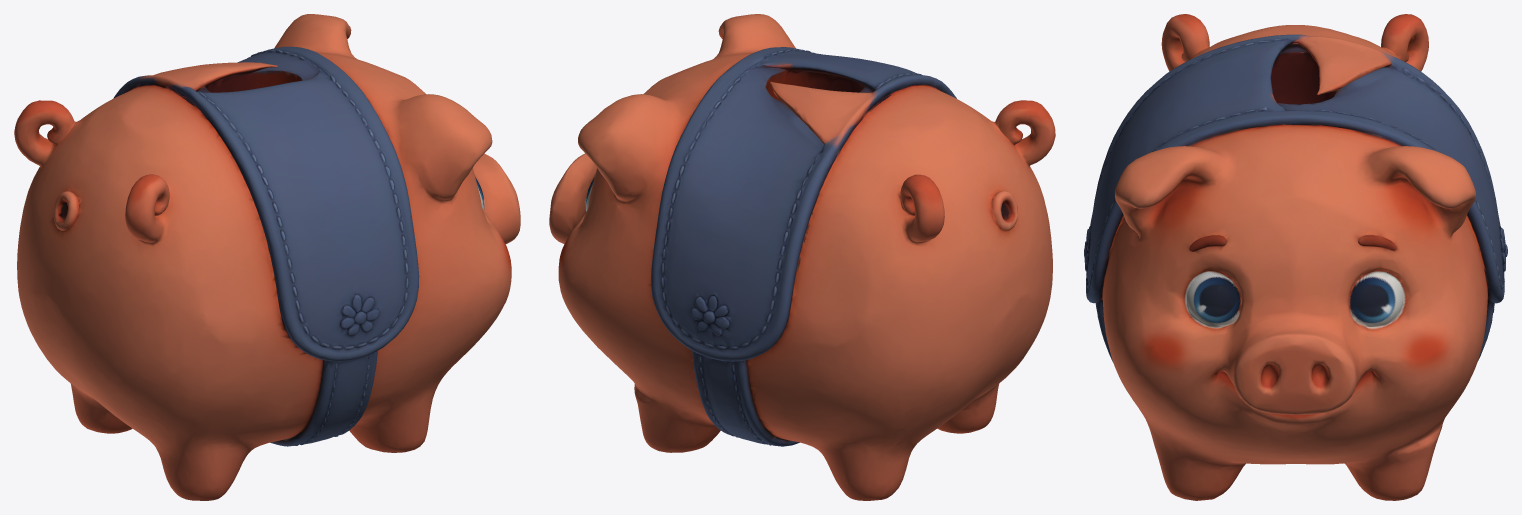
Rendered from porquinho.glb.
The picture shows the model from 3 angles, left to right: view 1: azimuth 30°, elevation 25°; view 2: azimuth 150°, elevation 25°; view 3: azimuth 270°, elevation 25°; orthographic projection. The views are drawn at different scales.
Visible parts, largest first — view 1: tripo_node_2b4fa1c1-7c5c-4dc1-a69d-6e193fb3a70b; view 2: tripo_node_2b4fa1c1-7c5c-4dc1-a69d-6e193fb3a70b; view 3: tripo_node_2b4fa1c1-7c5c-4dc1-a69d-6e193fb3a70b.
Part boxes in pixels (left/top/right/bottom): tripo_node_2b4fa1c1-7c5c-4dc1-a69d-6e193fb3a70b: left=14, top=14, right=520, bottom=500; tripo_node_2b4fa1c1-7c5c-4dc1-a69d-6e193fb3a70b: left=549, top=14, right=1055, bottom=500; tripo_node_2b4fa1c1-7c5c-4dc1-a69d-6e193fb3a70b: left=1084, top=14, right=1507, bottom=500.
Bounding box in the file's own units: 1 × 0.773 × 0.7853.
Materials: 1 (1 with a texture image).
